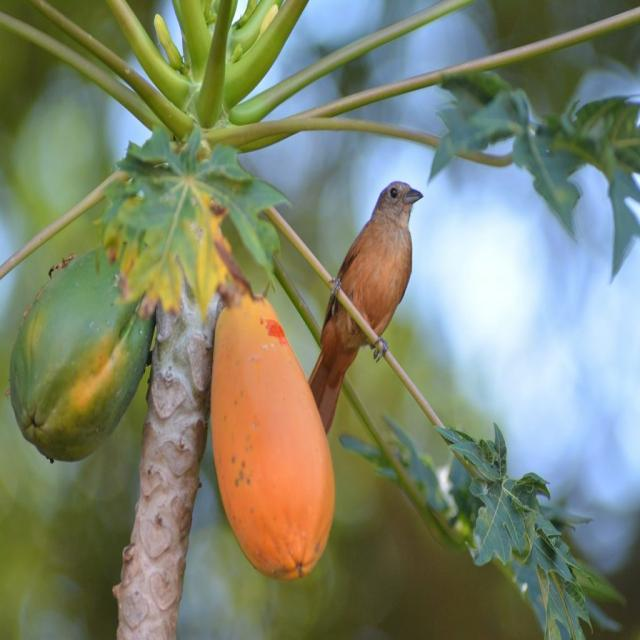Pepaya rippen: (199, 273, 333, 583), (8, 230, 153, 464)
